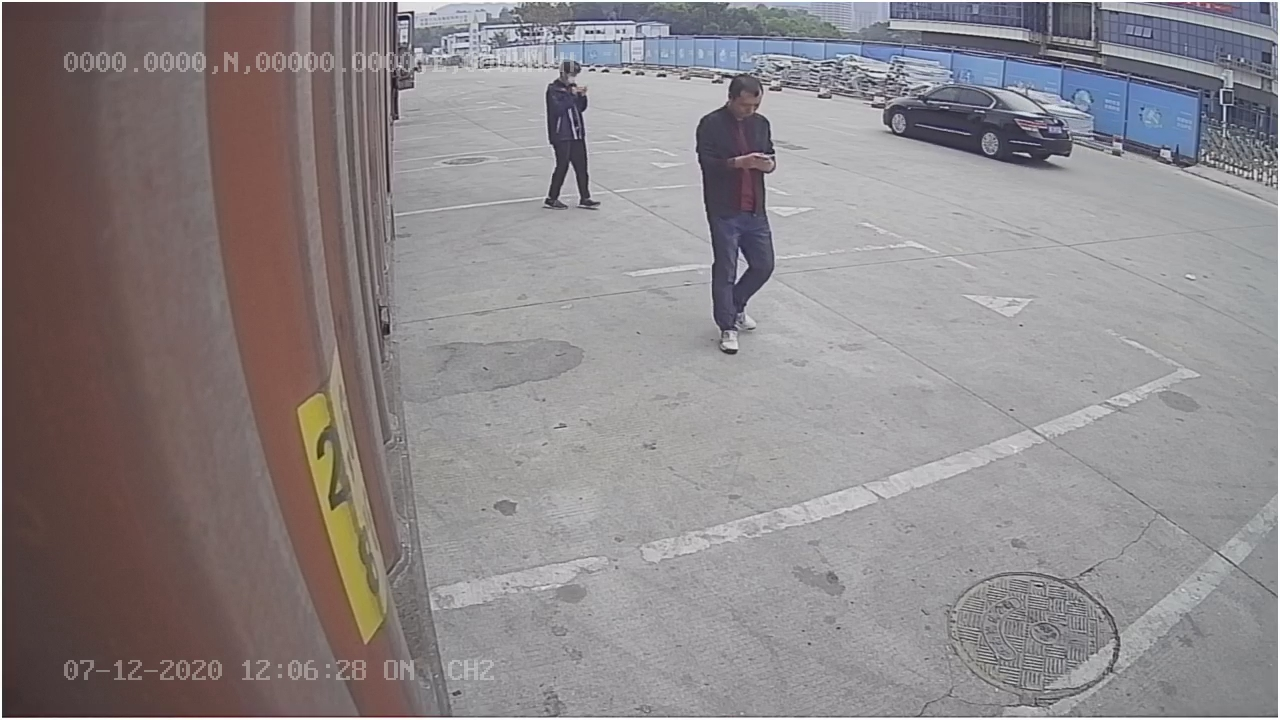person: (695, 72, 779, 353)
